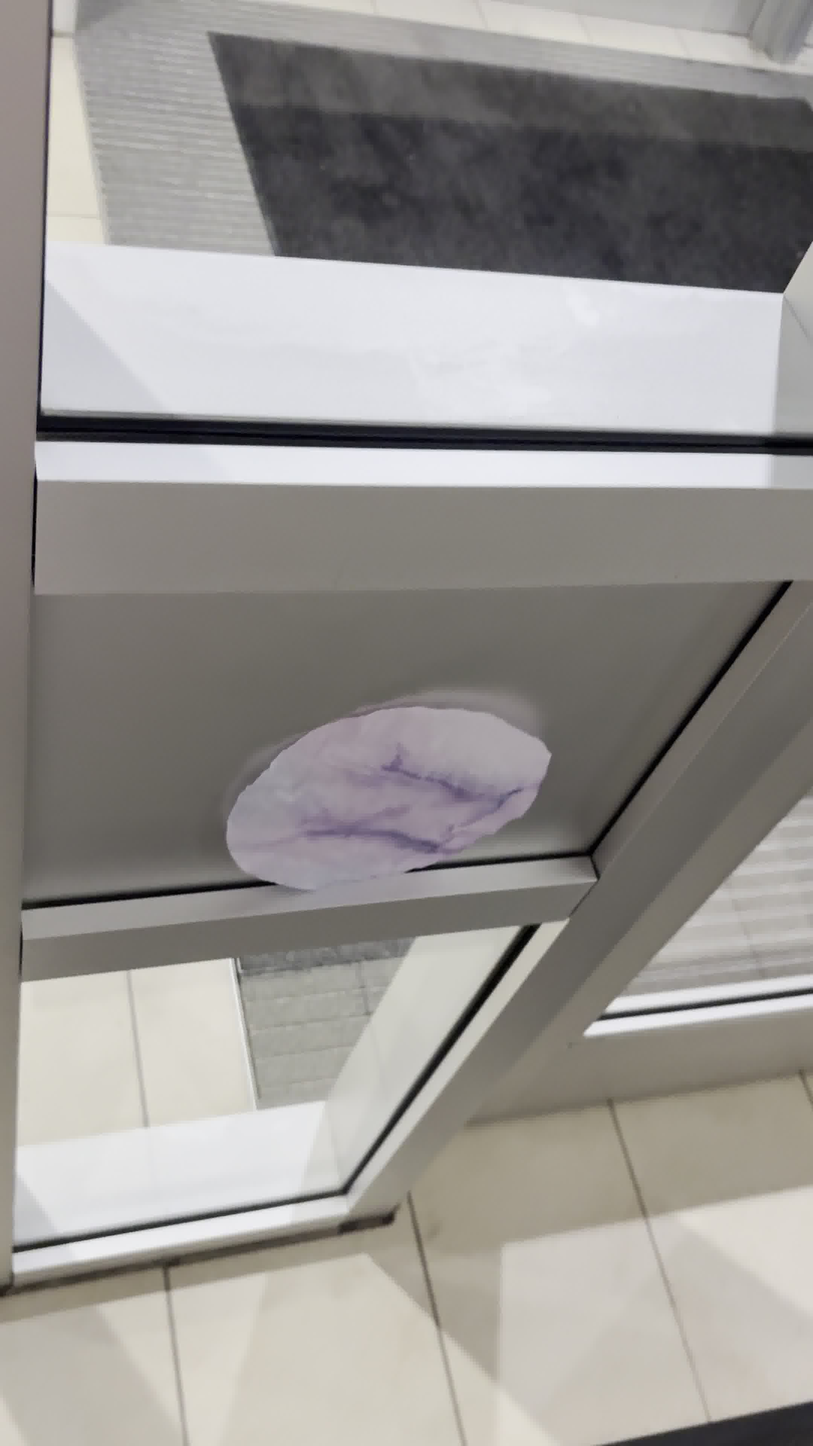Target: (215, 700, 562, 901)
